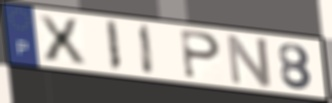8: (277, 43, 314, 91)
I: (137, 22, 156, 78), (104, 19, 123, 74)
N: (225, 32, 274, 89)
P: (179, 28, 223, 81)
X: (35, 13, 89, 66)
